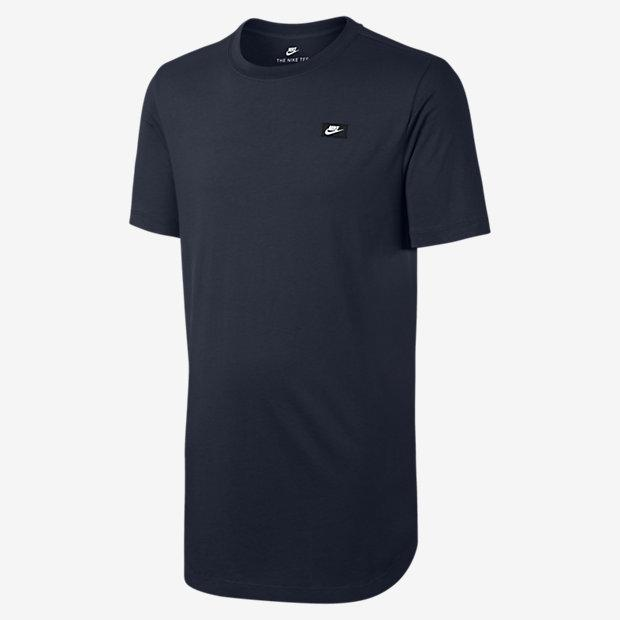teeshirt: (126, 10, 498, 589)
